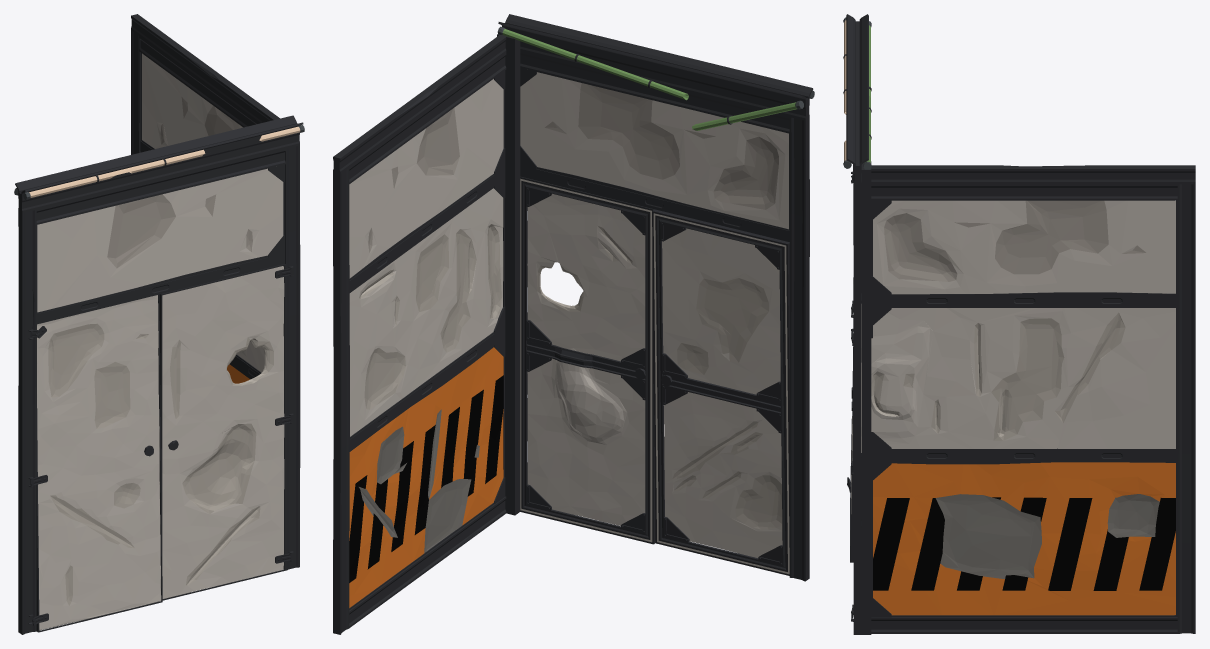
The model's file is SM_Wall_Angle_Door_Broken_01.gltf.
3 views of the same model, side by side, from view 1: azimuth 30°, elevation 25°; view 2: azimuth 150°, elevation 25°; view 3: azimuth 270°, elevation 25° (orthographic). The views are drawn at different scales.
Visible parts, largest first — view 1: SM_Wall_Angle_Door_Broken_01, SM_Door_Angle_Left_For_Wall_Door_Broken_01, SM_Door_Angle_Right_For_Wall_Door_Broken_01; view 2: SM_Wall_Angle_Door_Broken_01, SM_Door_Angle_Left_For_Wall_Door_Broken_01, SM_Door_Angle_Right_For_Wall_Door_Broken_01; view 3: SM_Wall_Angle_Door_Broken_01, SM_Door_Angle_Left_For_Wall_Door_Broken_01.
Boxes of the visible parts, x1=… form: SM_Wall_Angle_Door_Broken_01: x1=14, y1=14, x2=304, y2=634; SM_Door_Angle_Left_For_Wall_Door_Broken_01: x1=30, y1=294, x2=162, y2=632; SM_Door_Angle_Right_For_Wall_Door_Broken_01: x1=158, y1=264, x2=293, y2=600; SM_Wall_Angle_Door_Broken_01: x1=333, y1=14, x2=814, y2=634; SM_Door_Angle_Left_For_Wall_Door_Broken_01: x1=652, y1=209, x2=789, y2=575; SM_Door_Angle_Right_For_Wall_Door_Broken_01: x1=520, y1=176, x2=655, y2=544; SM_Wall_Angle_Door_Broken_01: x1=843, y1=14, x2=1195, y2=634; SM_Door_Angle_Left_For_Wall_Door_Broken_01: x1=847, y1=174, x2=853, y2=562.
Bounding box in the file's own units: 2 × 3.07 × 2.06.
